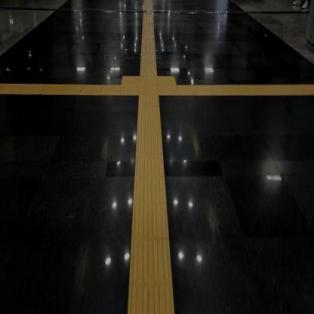Podoctatil: (126, 98, 173, 314), (109, 59, 188, 115), (177, 83, 314, 97), (139, 0, 158, 75), (0, 84, 121, 94)
